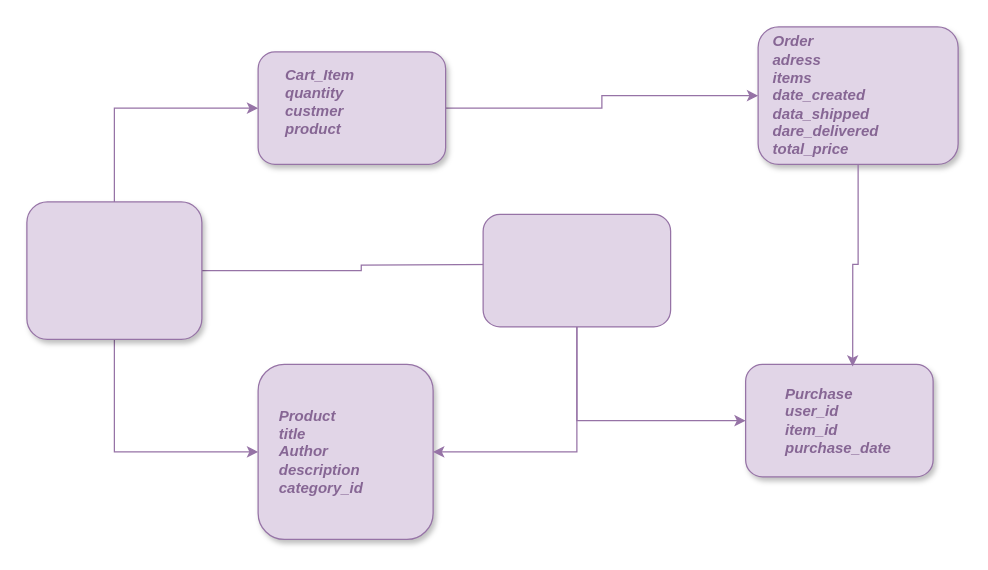
Image size: 988x570. Some labels were removed from this diagram. The centre of each missing label's shape, as x and y in pixels:
Category name description: the point at 576,270
User: Name password email: the point at 115,272
